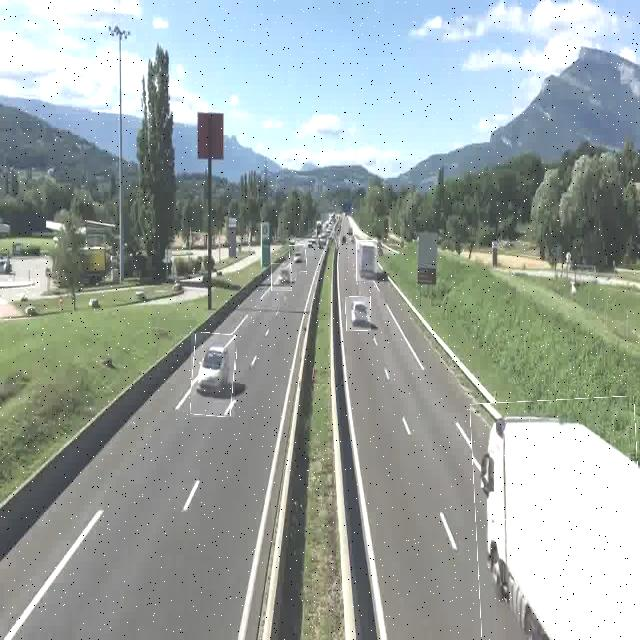Car: (192, 333, 236, 417), (346, 297, 371, 331), (271, 263, 292, 291), (290, 245, 306, 272)
Truck: (473, 398, 640, 640), (356, 240, 377, 281)
